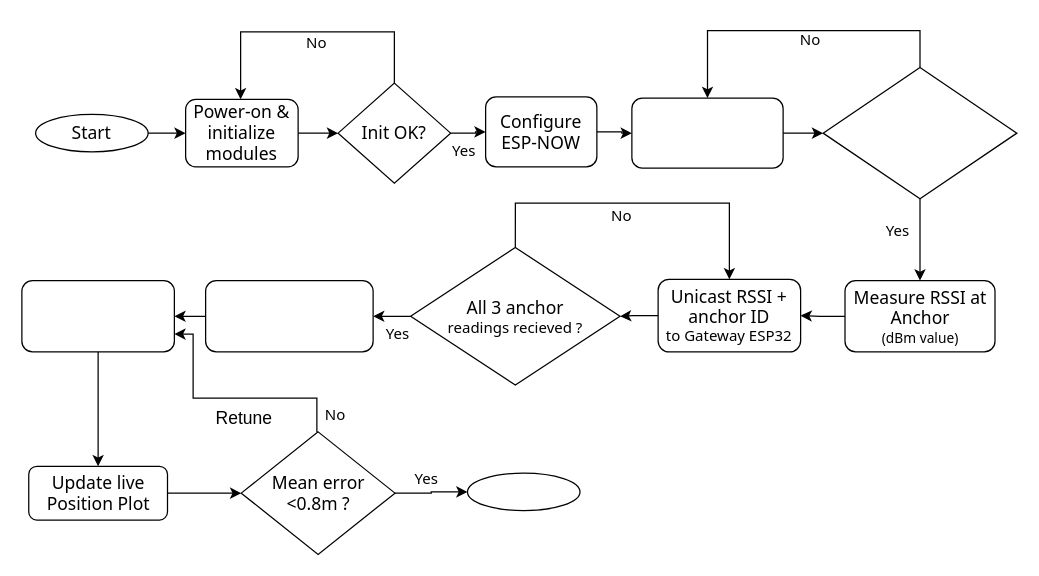
Some shapes in this 1039 by 576 pixel diagram are drawn without their labels. Each missing label, with the box of its shape:
Apply Path-loss, Trilateration, Kalman filtering: (21, 279, 174, 352)
Beacon received by anchor ?: (822, 66, 1017, 199)
End: (466, 472, 580, 511)
Forward RSSI triplet via USB serial to MATLAB: (204, 279, 373, 352)
Mobile node: broadcast beacon(ESP-NOW): (631, 97, 783, 168)
